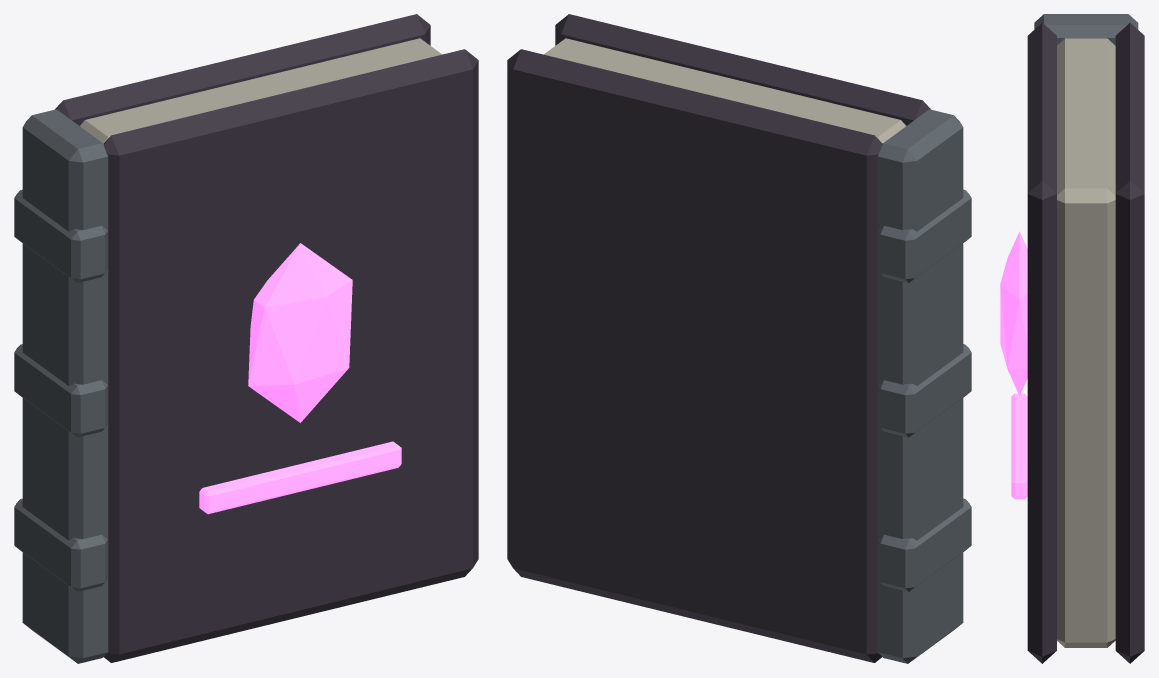
Rendered from Soulbinders_Grimoire.fbx.
The picture shows the model from 3 angles, left to right: view 1: azimuth 30°, elevation 25°; view 2: azimuth 150°, elevation 25°; view 3: azimuth 270°, elevation 25°; orthographic projection. The views are drawn at different scales.
Visible parts, largest first — view 1: Front_Cover, Spine, Soul_Gem, Back_Cover, Book_Block, Rune_Bar, Binding_0.48, Binding_-0.48, Binding_0; view 2: Back_Cover, Spine, Front_Cover, Book_Block, Binding_0.48, Binding_-0.48, Binding_0; view 3: Book_Block, Front_Cover, Back_Cover, Soul_Gem, Spine, Rune_Bar.
Boxes of the visible parts, x1,y1,x2,y2 form: Front_Cover: [103, 49, 478, 662]; Spine: [22, 109, 108, 663]; Soul_Gem: [248, 243, 352, 422]; Back_Cover: [55, 14, 430, 125]; Book_Block: [80, 38, 441, 143]; Rune_Bar: [199, 441, 401, 514]; Binding_0.48: [14, 189, 107, 282]; Binding_-0.48: [14, 498, 107, 591]; Binding_0: [14, 344, 107, 437]; Back_Cover: [507, 49, 882, 662]; Spine: [877, 109, 963, 663]; Front_Cover: [555, 14, 930, 125]; Book_Block: [544, 38, 905, 143]; Binding_0.48: [878, 189, 971, 282]; Binding_-0.48: [878, 498, 971, 591]; Binding_0: [878, 344, 971, 437]; Book_Block: [1057, 38, 1115, 647]; Front_Cover: [1027, 22, 1056, 663]; Back_Cover: [1115, 23, 1144, 663]; Soul_Gem: [1000, 231, 1027, 395]; Spine: [1034, 14, 1138, 45]; Rune_Bar: [1011, 393, 1027, 499].
Size of the model in its own units: 134 by 164 by 44.45.
